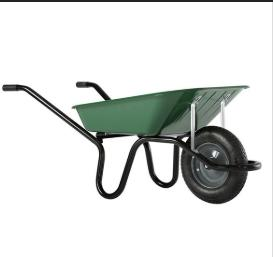BROUETTE: (0, 75, 265, 207)
